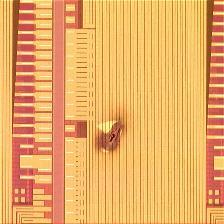PARTICLE: (88, 112, 131, 156)
